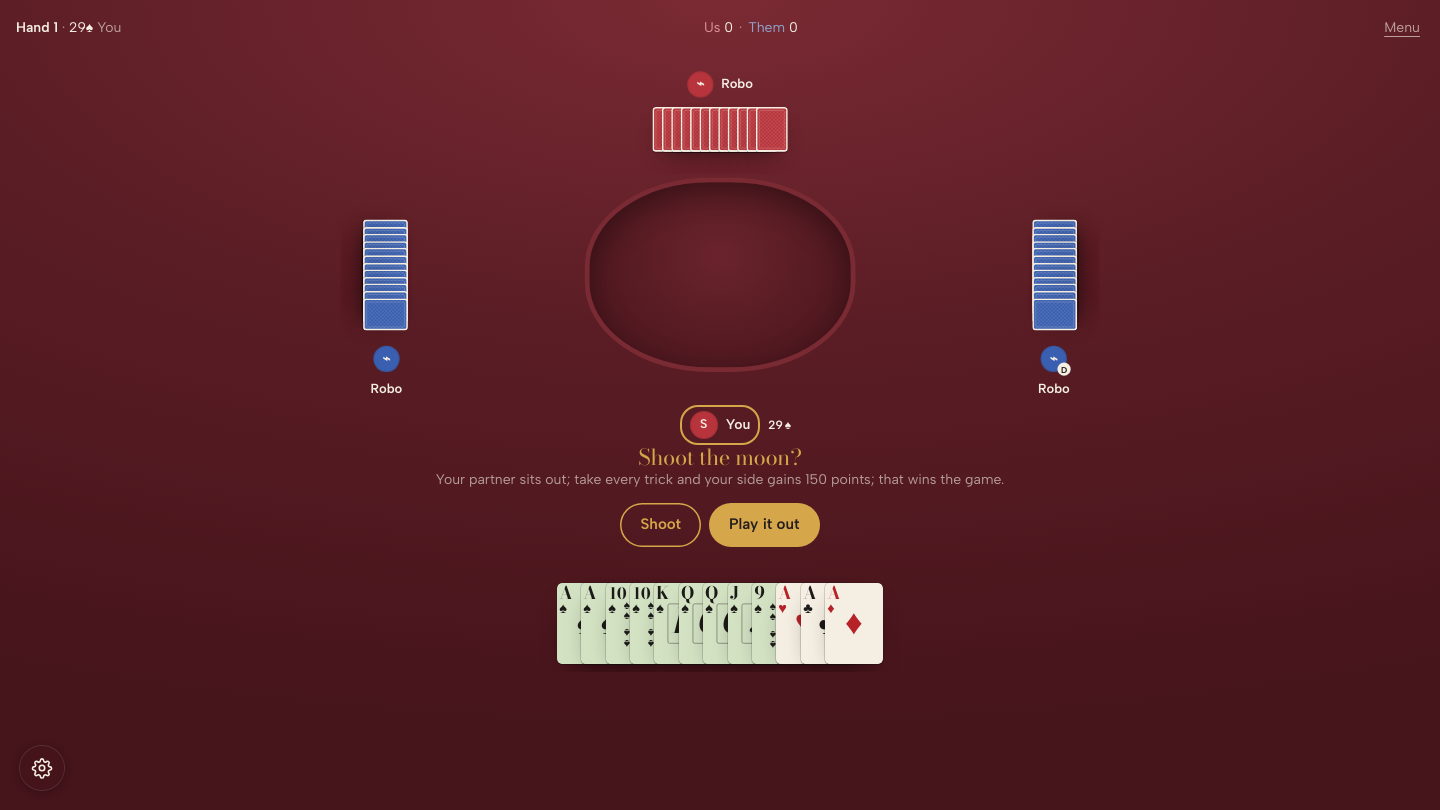
Scenario: the shoot decision after the pass › asks the bidder, and automatic meld waits for the answer, then melds and plays on
Expected: the text "Shoot the moon?" is shown, [638, 447, 802, 468]
Expected: the text "Your partner sits out; take every trick and your side gains 150 points; that wins the game" is shown, [436, 471, 1004, 488]
Click the button "Play it out". click: click(764, 525)
box: [709, 503, 820, 547]
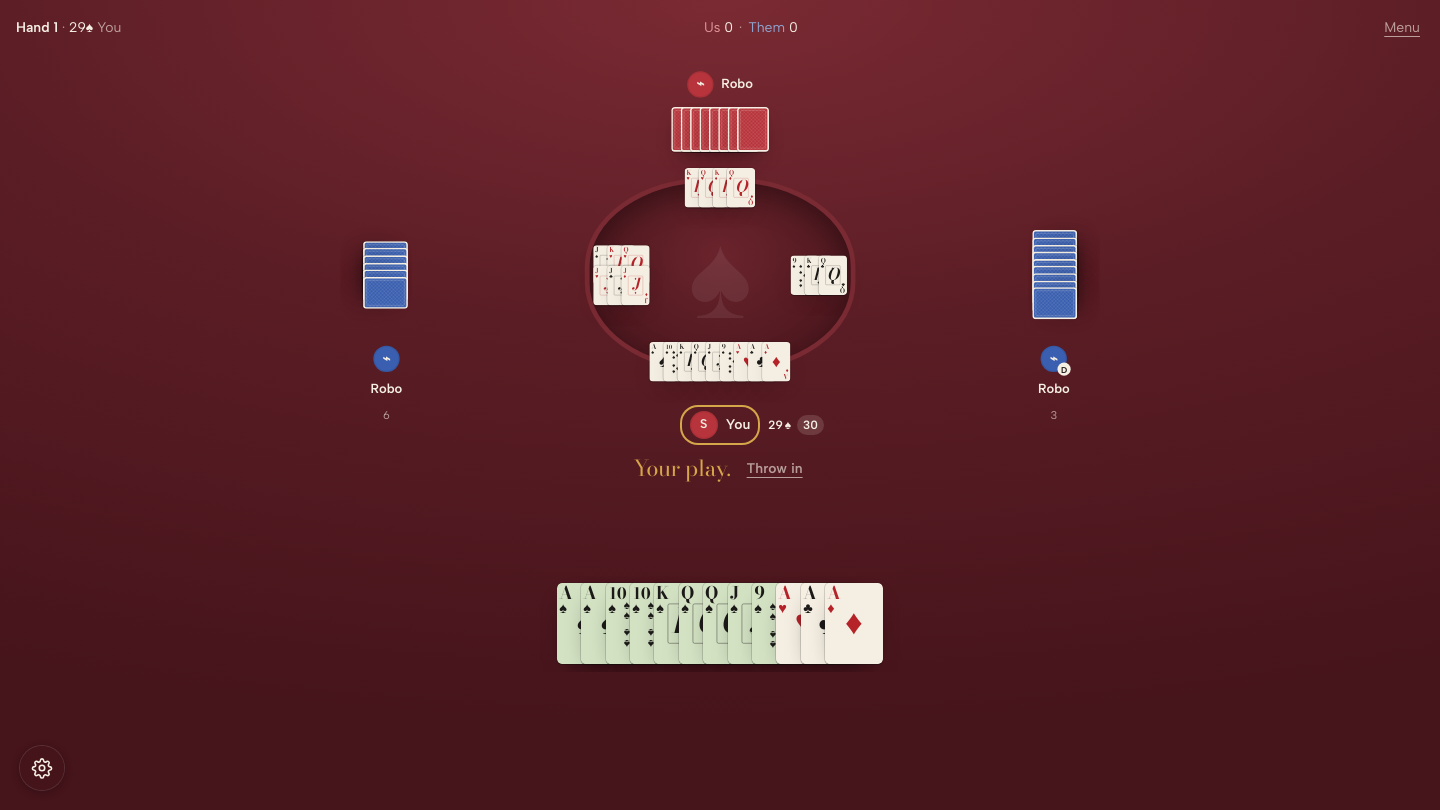
Expected: the element showing "Your play. Throw in" is shown, [633, 447, 811, 491]
